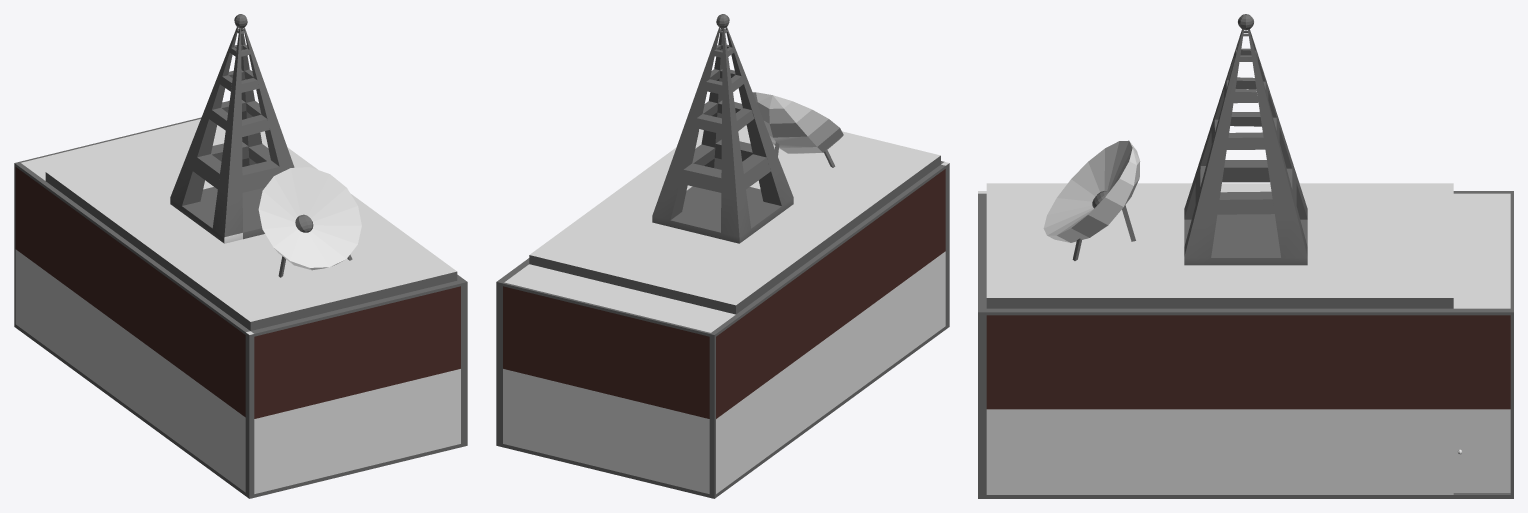
File: RadioBuilding.fbx
The picture shows the model from 3 angles, left to right: view 1: azimuth 30°, elevation 25°; view 2: azimuth 150°, elevation 25°; view 3: azimuth 270°, elevation 25°; orthographic projection. The views are drawn at different scales.
Visible parts, largest first — view 1: Radio_Building1; view 2: Radio_Building1; view 3: Radio_Building1.
Boxes of the visible parts, x1,y1,x2,y2 form: Radio_Building1: (14, 14, 467, 498); Radio_Building1: (496, 14, 949, 498); Radio_Building1: (978, 14, 1513, 498).
Size of the model in its own units: 488 by 794 by 910.
